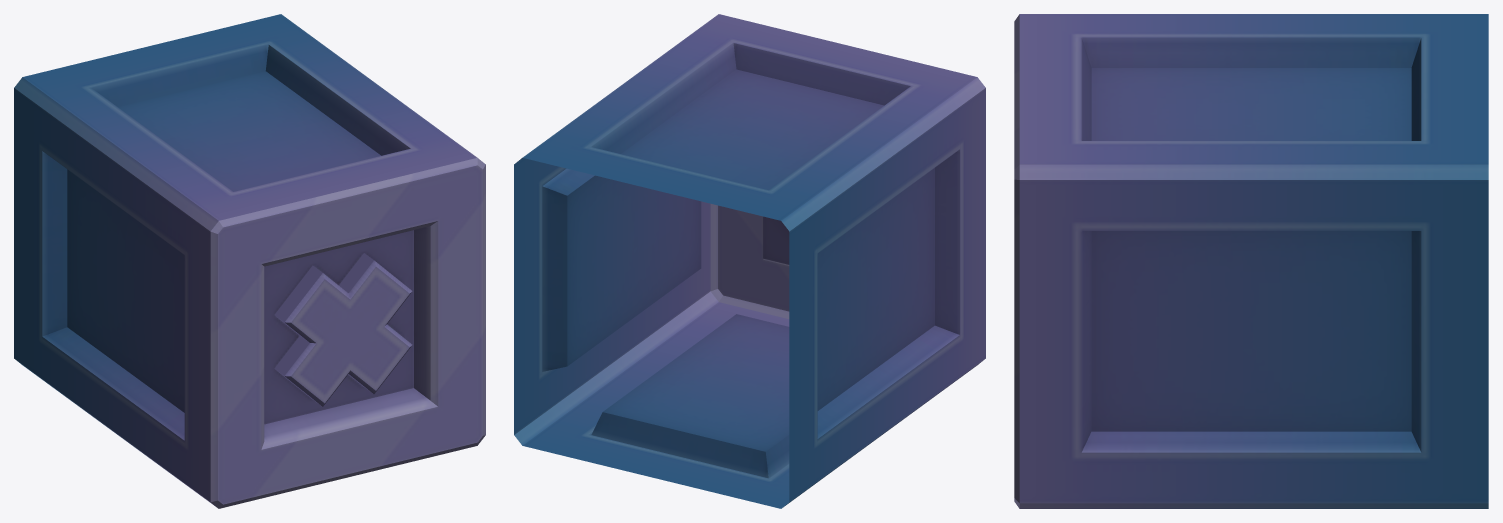
The model's file is indestructible.glb.
3 views of the same model, side by side, from view 1: azimuth 30°, elevation 25°; view 2: azimuth 150°, elevation 25°; view 3: azimuth 270°, elevation 25° (orthographic). The views are drawn at different scales.
Parts seen in each view (by area): view 1: indestructible_metal_1_mesh; view 2: indestructible_metal_1_mesh; view 3: indestructible_metal_1_mesh.
Boxes of the visible parts, <box> form: indestructible_metal_1_mesh: <box>14,14,485,508</box>; indestructible_metal_1_mesh: <box>514,14,985,508</box>; indestructible_metal_1_mesh: <box>1014,14,1488,508</box>.
Bounding box in the file's own units: 1 × 1 × 1.25.
Materials: 1 (1 with a texture image).
